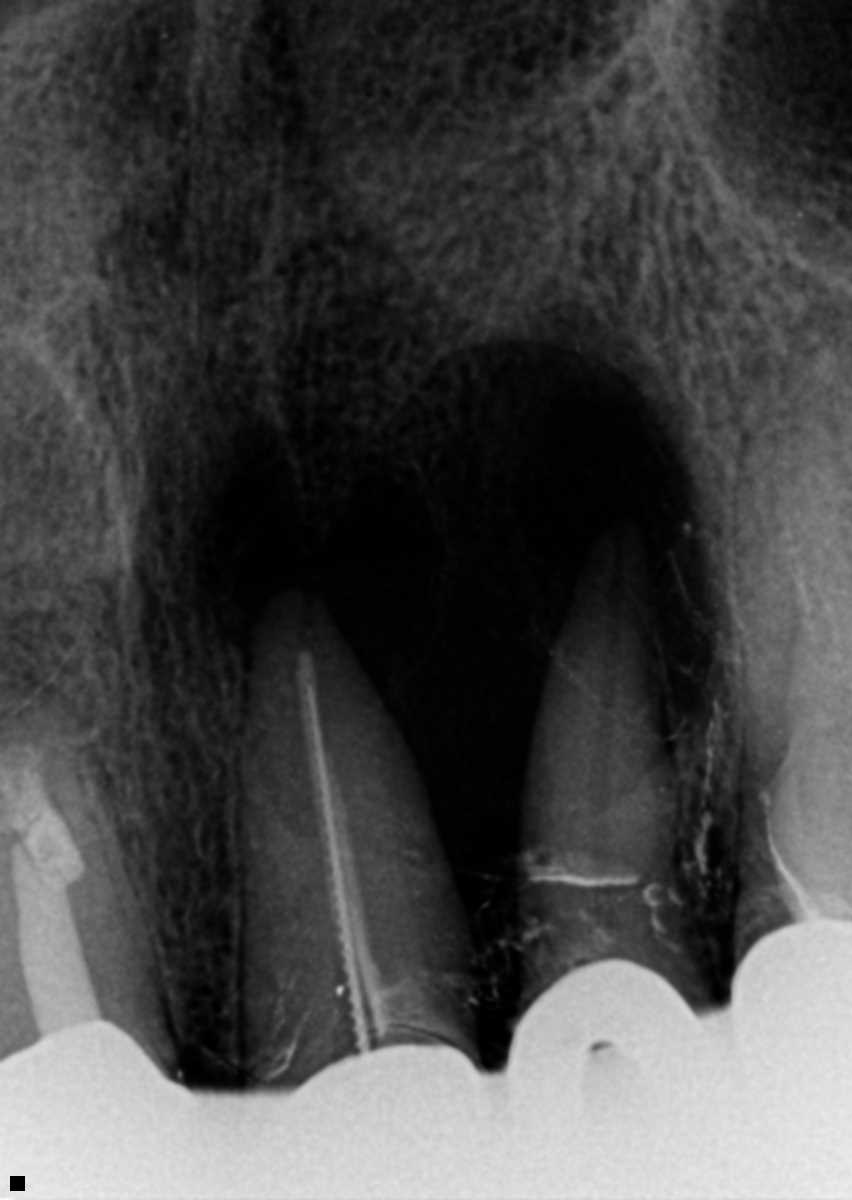Apical Lesion: (184, 329, 723, 866)
Main Canal: (583, 530, 625, 939)
Main Root: (237, 586, 488, 1047), (521, 518, 706, 967), (730, 413, 852, 879), (0, 696, 165, 1038)
Root Canal Filling: (17, 838, 107, 1033)
